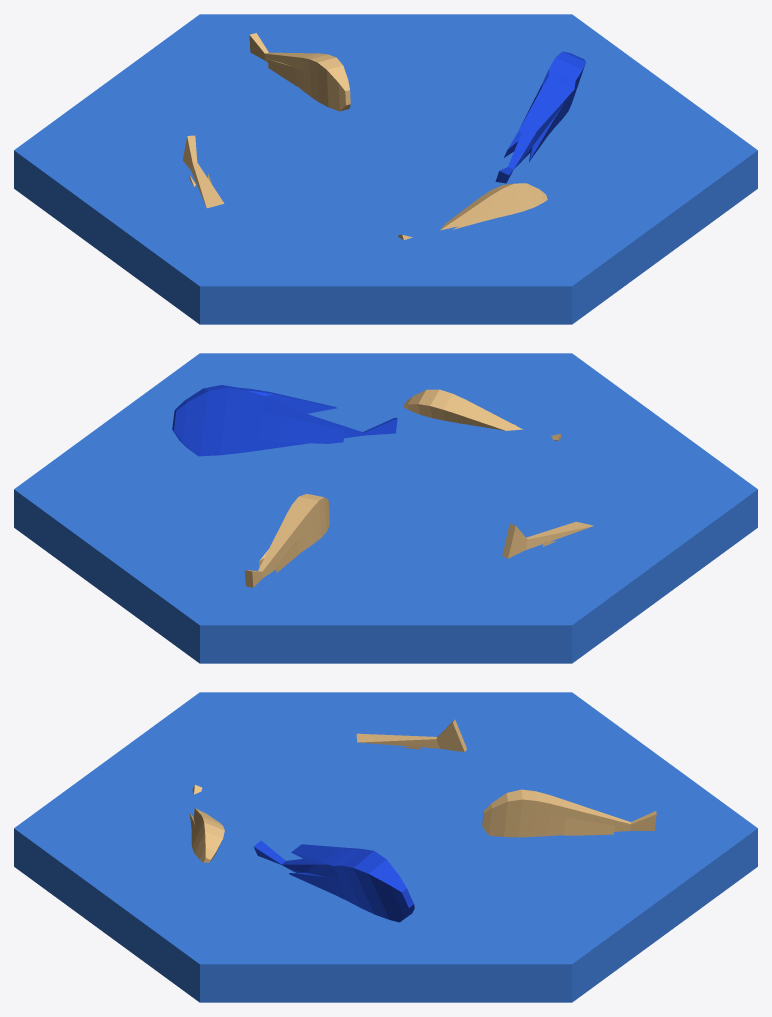
The model's file is Ocean.fbx.
3 views of the same model, one above another, from view 1: azimuth 30°, elevation 25°; view 2: azimuth 150°, elevation 25°; view 3: azimuth 270°, elevation 25° (orthographic).
Visible parts, largest first — view 1: Water, Fish.003, Fish, Fish.002, Fish.001; view 2: Water, Fish.003, Fish, Fish.002, Fish.001; view 3: Water, Fish.003, Fish, Fish.001, Fish.002.
Part boxes in pixels (box(x1,y1,x2,y2)): Water: box(14, 14, 757, 324); Fish.003: box(495, 51, 585, 183); Fish: box(249, 33, 350, 111); Fish.002: box(398, 183, 547, 240); Fish.001: box(183, 135, 224, 207); Water: box(14, 353, 757, 663); Fish.003: box(172, 385, 397, 456); Fish: box(244, 494, 329, 587); Fish.002: box(404, 389, 561, 440); Fish.001: box(502, 521, 593, 558); Water: box(14, 692, 757, 1002); Fish.003: box(253, 840, 414, 922); Fish: box(482, 789, 656, 837); Fish.001: box(356, 719, 466, 752); Fish.002: box(189, 785, 224, 862).
Bounding box in the file's own units: 171 × 34 × 197.
